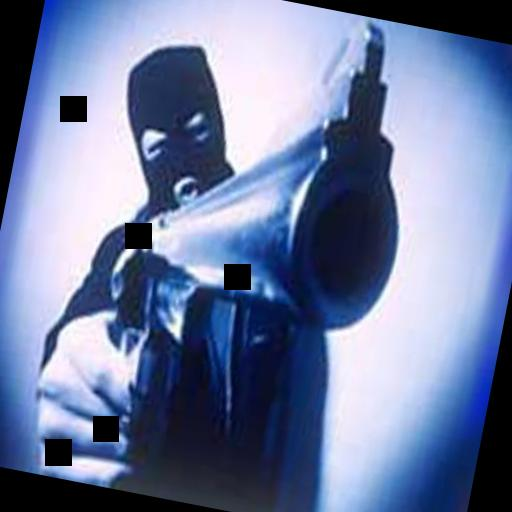Handgun: (73, 0, 442, 511)
